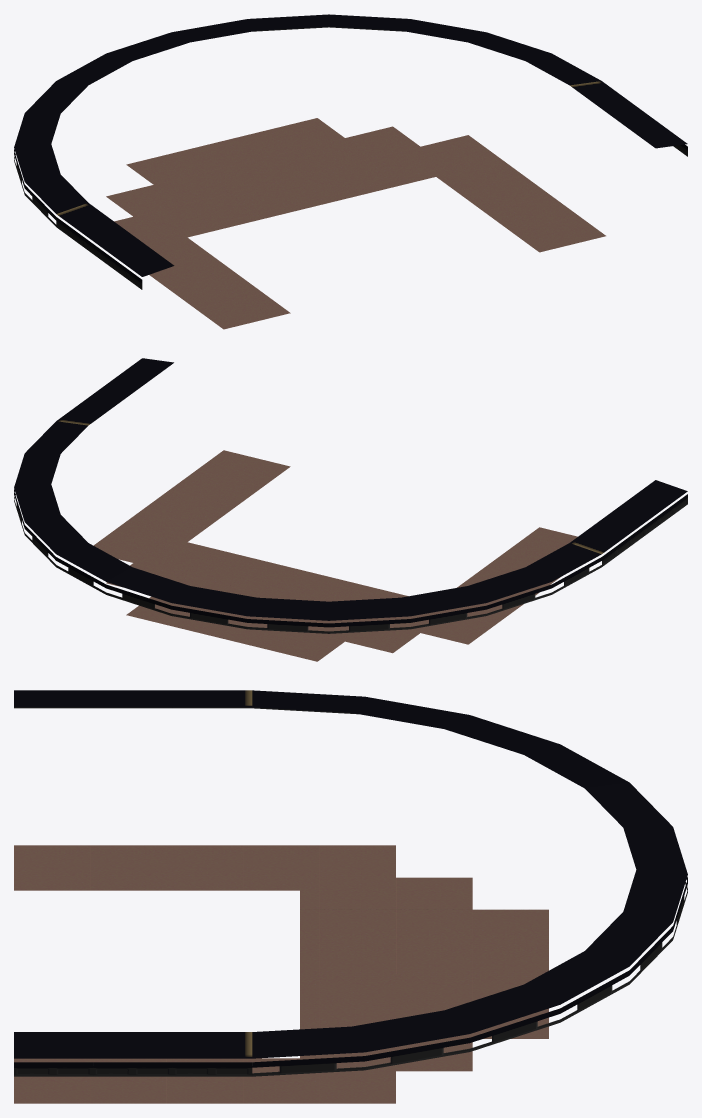
3 views of the same model, one above another, from view 1: azimuth 30°, elevation 25°; view 2: azimuth 150°, elevation 25°; view 3: azimuth 270°, elevation 25° (orthographic). The views are drawn at different scales.
Size of the model in its own units: 169 by 22.45 by 131.
4 materials, 4 textured.
